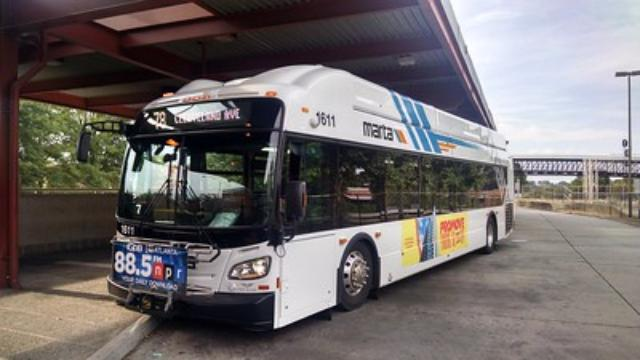bus: (106, 64, 514, 333)
